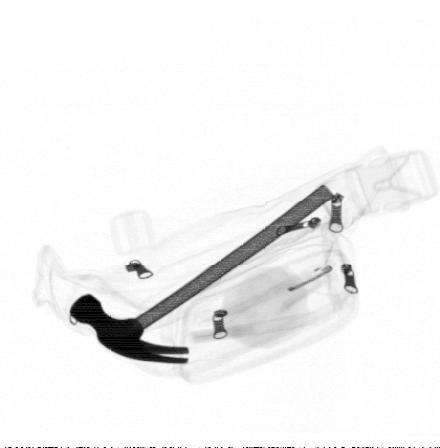Hammer: (69, 183, 336, 364)
